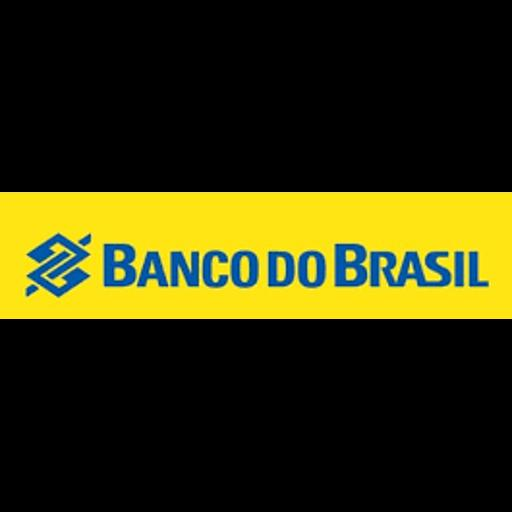Banco do Brasil S-A: (0, 192, 512, 319)
